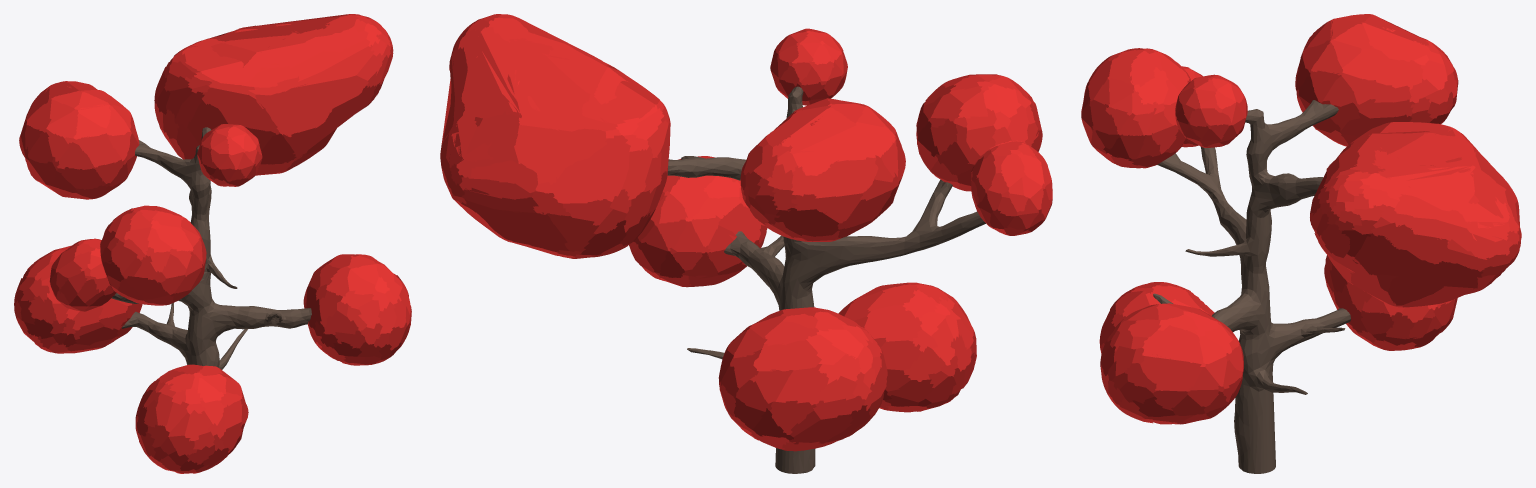
The model's file is TreeBig02.fbx.
The picture shows the model from 3 angles, left to right: view 1: azimuth 30°, elevation 25°; view 2: azimuth 150°, elevation 25°; view 3: azimuth 270°, elevation 25°; orthographic projection. The views are drawn at different scales.
Parts seen in each view (by area): view 1: Icosphere.002, Circle; view 2: Icosphere.002, Circle; view 3: Icosphere.002, Circle.
Boxes of the visible parts, x1,y1,x2,y2 form: Icosphere.002: (14, 14, 411, 473); Circle: (111, 127, 311, 369); Icosphere.002: (440, 14, 1052, 451); Circle: (667, 86, 985, 473); Icosphere.002: (1081, 14, 1521, 424); Circle: (1153, 100, 1350, 473).
Size of the model in its own units: 8626 by 7154 by 7003.
